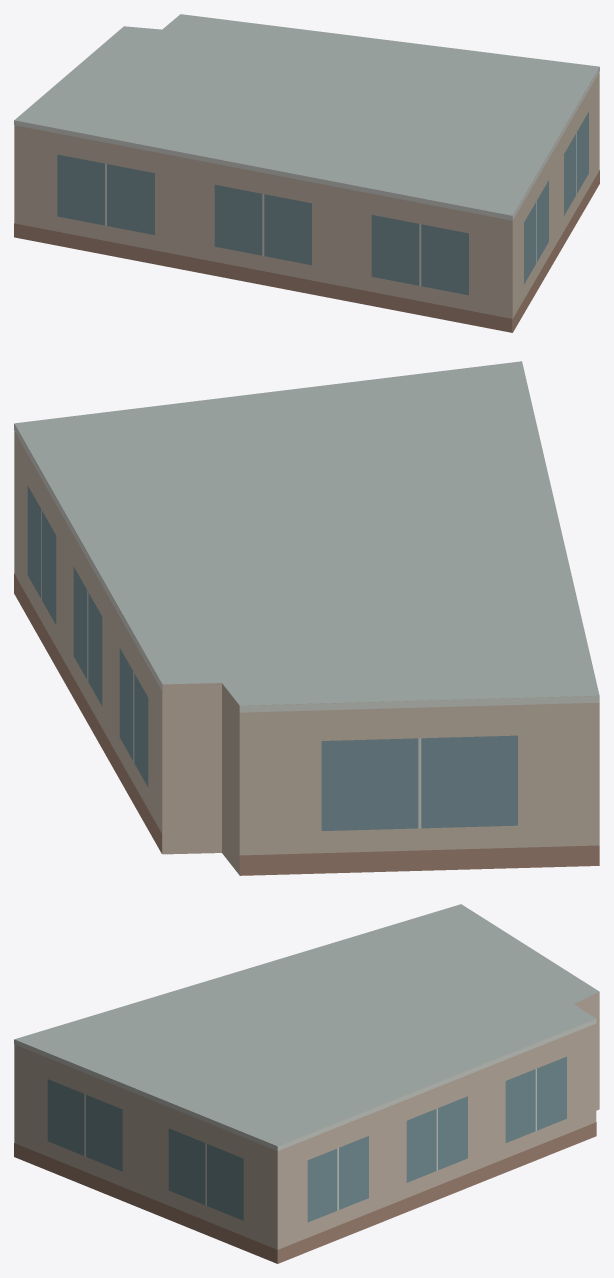
The model's file is survey-upis-33032856.glb.
The picture shows the model from 3 angles, top to bottom: view 1: azimuth 30°, elevation 25°; view 2: azimuth 150°, elevation 25°; view 3: azimuth 270°, elevation 25°; orthographic projection. The views are drawn at different scales.
Visible parts, largest first — view 1: survey-upis-33032856.tmp; view 2: survey-upis-33032856.tmp; view 3: survey-upis-33032856.tmp.
Boxes of the visible parts, x1,y1,x2,y2 form: survey-upis-33032856.tmp: (14,14,599,332); survey-upis-33032856.tmp: (14,361,599,875); survey-upis-33032856.tmp: (14,904,599,1263).
Bounding box in the file's own units: 13.49 × 3.05 × 13.78.
